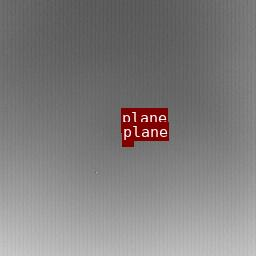plane: (121, 127, 134, 132), (122, 141, 133, 146)
